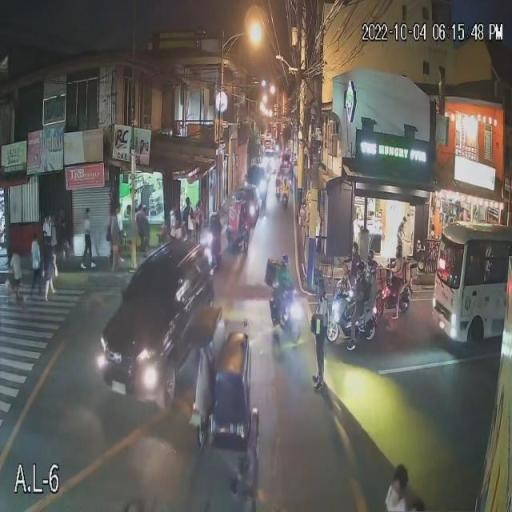helmet: (278, 255, 288, 264)
motorcycle: (324, 276, 378, 344), (375, 258, 414, 320), (268, 285, 305, 341)
rider: (346, 252, 370, 331), (270, 254, 296, 314)
